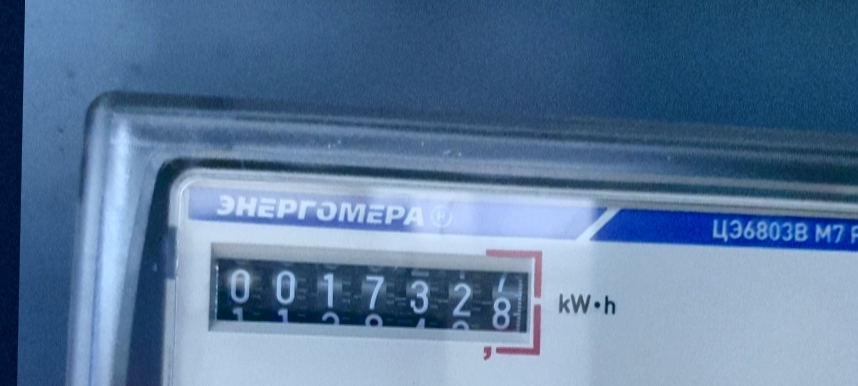0: (227, 265, 254, 305), (275, 268, 298, 306)
1: (320, 270, 339, 310)
2: (451, 281, 474, 318)
3: (409, 278, 432, 315)
7: (364, 273, 387, 312)
8: (492, 294, 511, 330)
screen: (198, 240, 554, 363)
